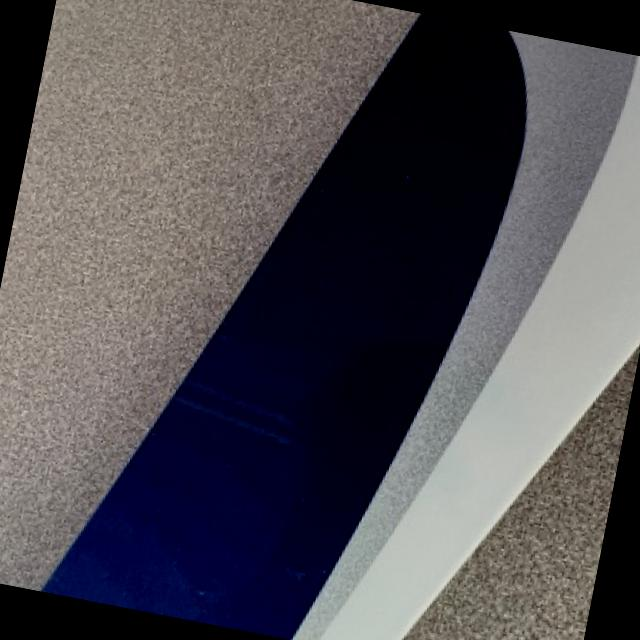healthy: (0, 0, 421, 589), (409, 356, 639, 640)
